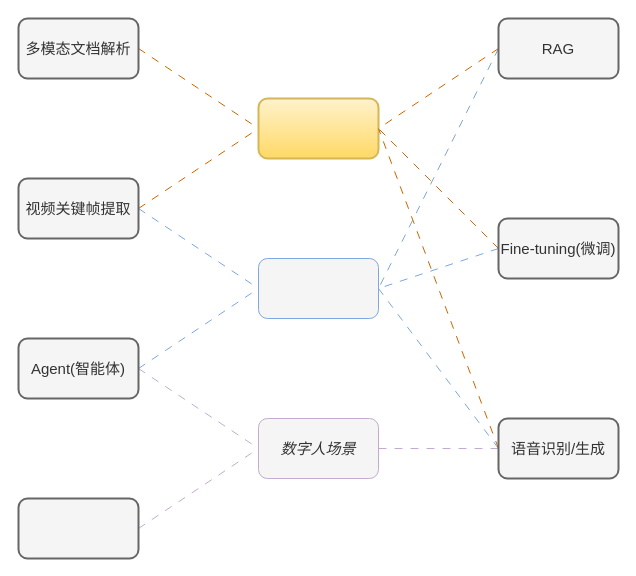
The diagram is 636 pixels wide and 576 high, and some of its shapes have lost their labels. Each missing label, with the centre of its shape:
MCP: (x=78, y=528)
企业知识库: (x=318, y=128)
培训辅助场景: (x=318, y=288)
